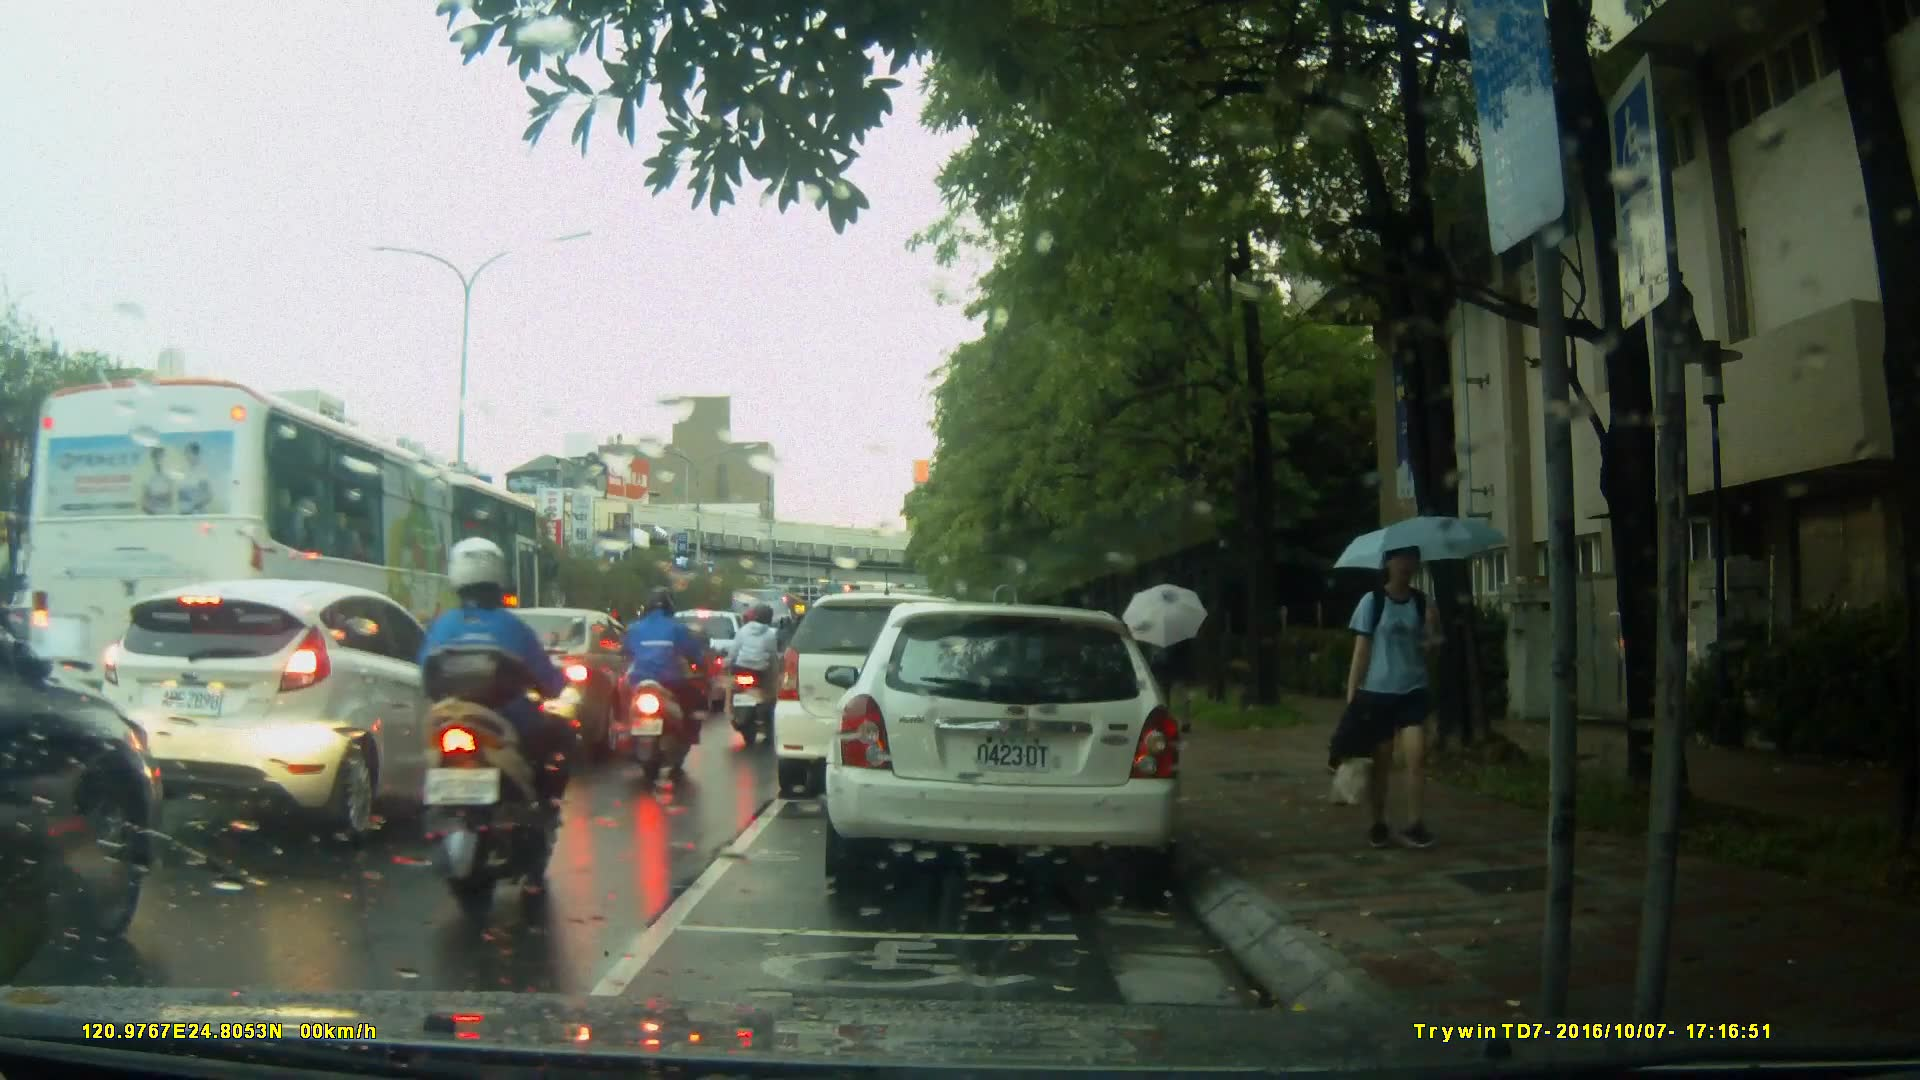pedestrian: (1332, 537, 1479, 853), (1140, 613, 1185, 725)
rider: (416, 536, 577, 907), (626, 591, 708, 777), (733, 597, 796, 753)
vehicle: (23, 372, 548, 748), (835, 594, 1194, 898), (94, 576, 486, 846), (776, 590, 1026, 784), (416, 605, 662, 752), (610, 619, 724, 718)
